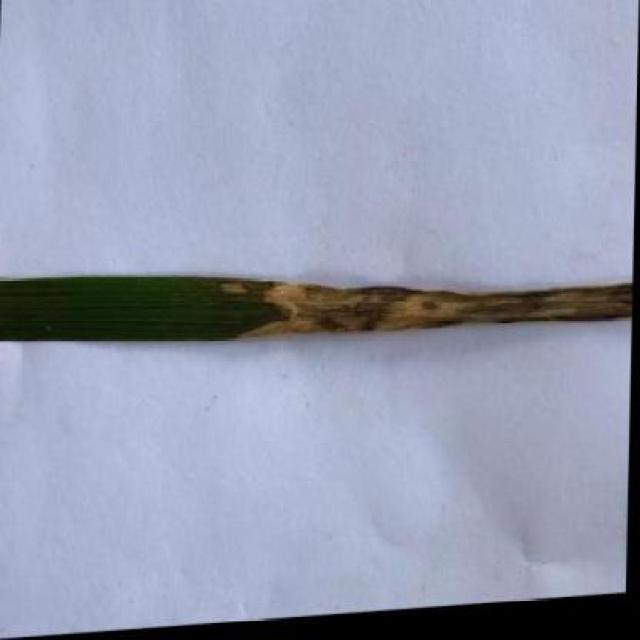Brown_Spot: (0, 229, 635, 375)
